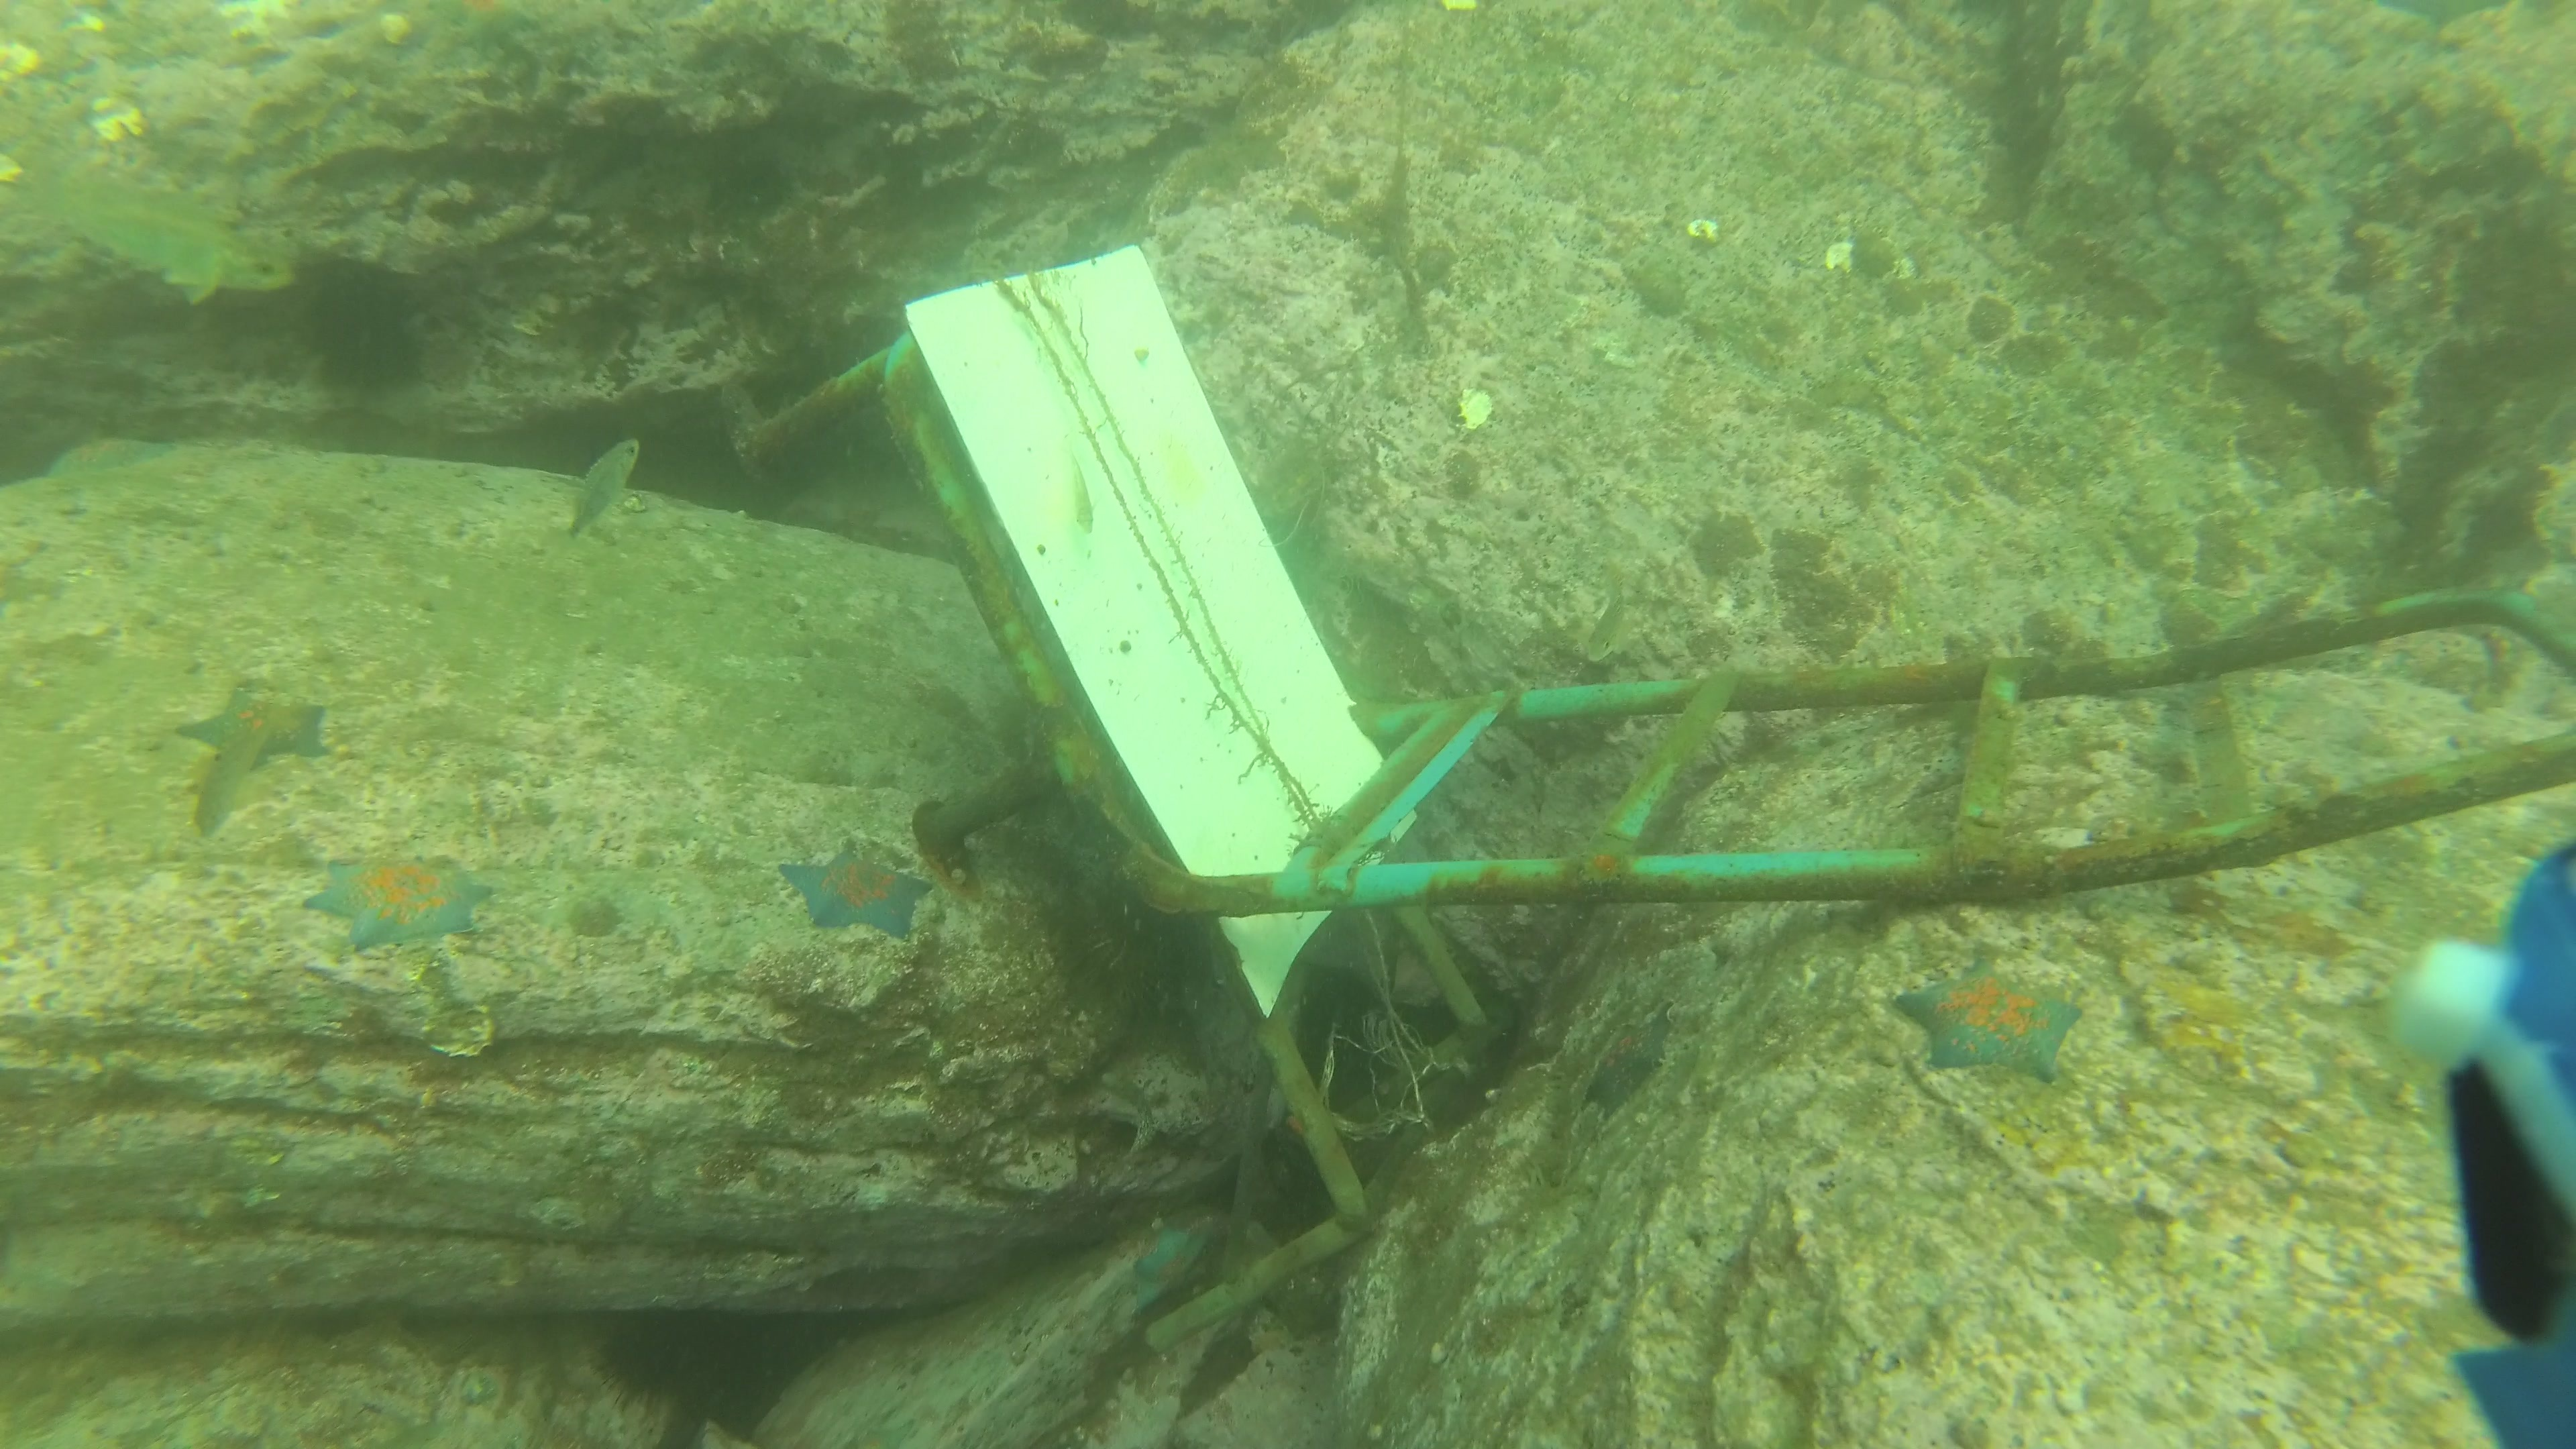echinus: (584, 1316, 747, 1421)
starfish: (1891, 954, 2088, 1090), (303, 851, 499, 957), (771, 833, 939, 943), (175, 683, 331, 773), (1575, 1003, 1683, 1123), (1129, 1226, 1210, 1316), (42, 433, 180, 483)
